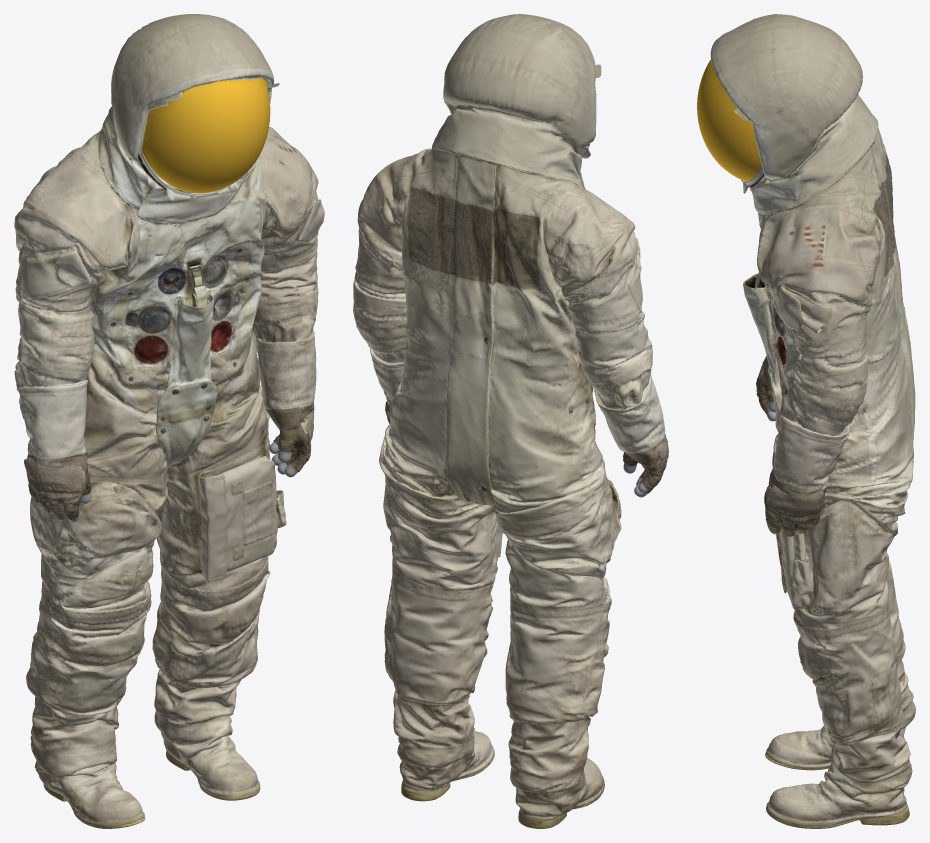
The model's file is suit.glb.
3 renders of one model, left to right at view 1: azimuth 30°, elevation 25°; view 2: azimuth 150°, elevation 25°; view 3: azimuth 270°, elevation 25°, orthographic. The views are drawn at different scales.
Visible parts, largest first — view 1: suit_1, suit_2, suit_0; view 2: suit_2, suit_1, suit_0; view 3: suit_0, suit_2, suit_1.
Boxes of the visible parts, left/top/right/bottom form: suit_1: left=14, top=152, right=169, bottom=828; suit_2: left=66, top=14, right=279, bottom=467; suit_0: left=152, top=126, right=324, bottom=800; suit_2: left=398, top=14, right=601, bottom=521; suit_1: left=379, top=185, right=668, bottom=828; suit_0: left=353, top=156, right=502, bottom=801; suit_0: left=756, top=205, right=912, bottom=828; suit_2: left=697, top=14, right=915, bottom=443; suit_1: left=756, top=333, right=915, bottom=770.
Size of the model in its own units: 0.7546 by 1.85 by 0.4749.
Materials: 3 (3 with a texture image).
